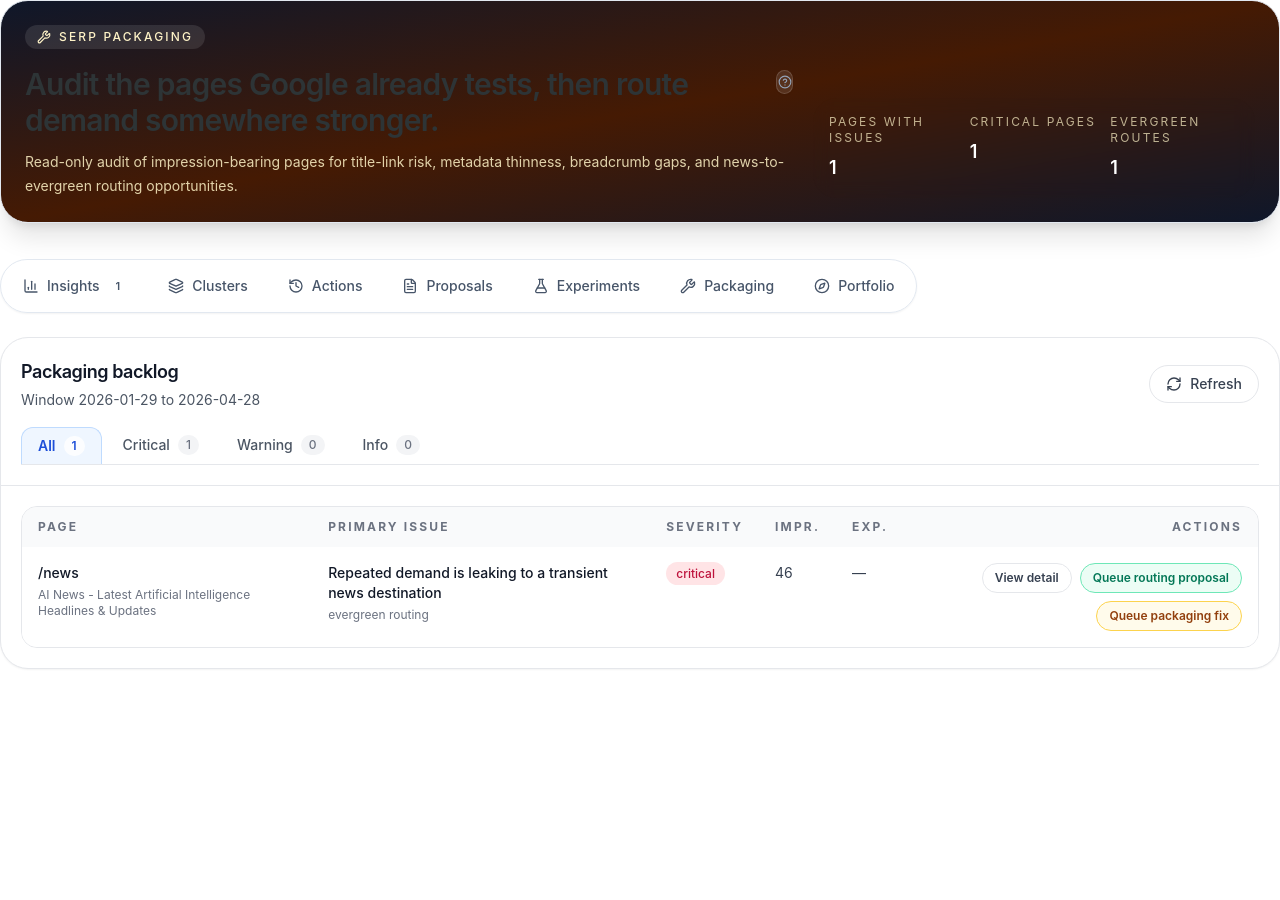
Test: SeoPackagingPage › renders the packaging backlog and opens the detail drawer
Expected: the text "/news" is shown, [38,564,79,581]
Expected: the text "Repeated demand is leaking to a transient news destination" is shown, [328,563,634,603]
Step 1. Click the button "View detail" → (1027, 578), box [982,563,1072,593]
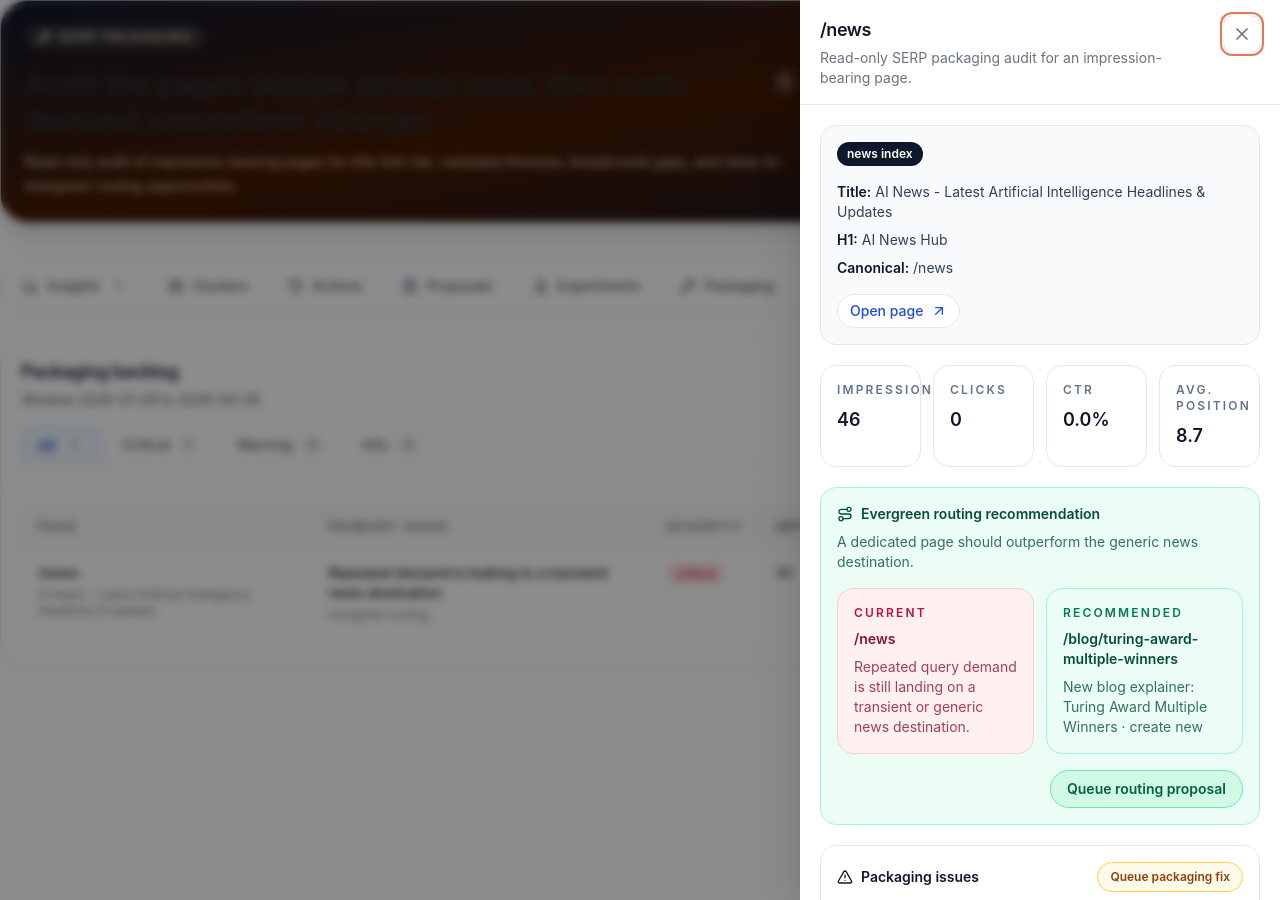
Expected: the text "Read-only SERP packaging audit" is shown, [820,49,1162,86]
Expected: the text "/blog/turing-award-multiple-winners" is shown, [1063,630,1198,667]
